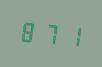eight: (18, 17, 38, 45)
one: (61, 20, 81, 49)
seven: (40, 19, 60, 47)
